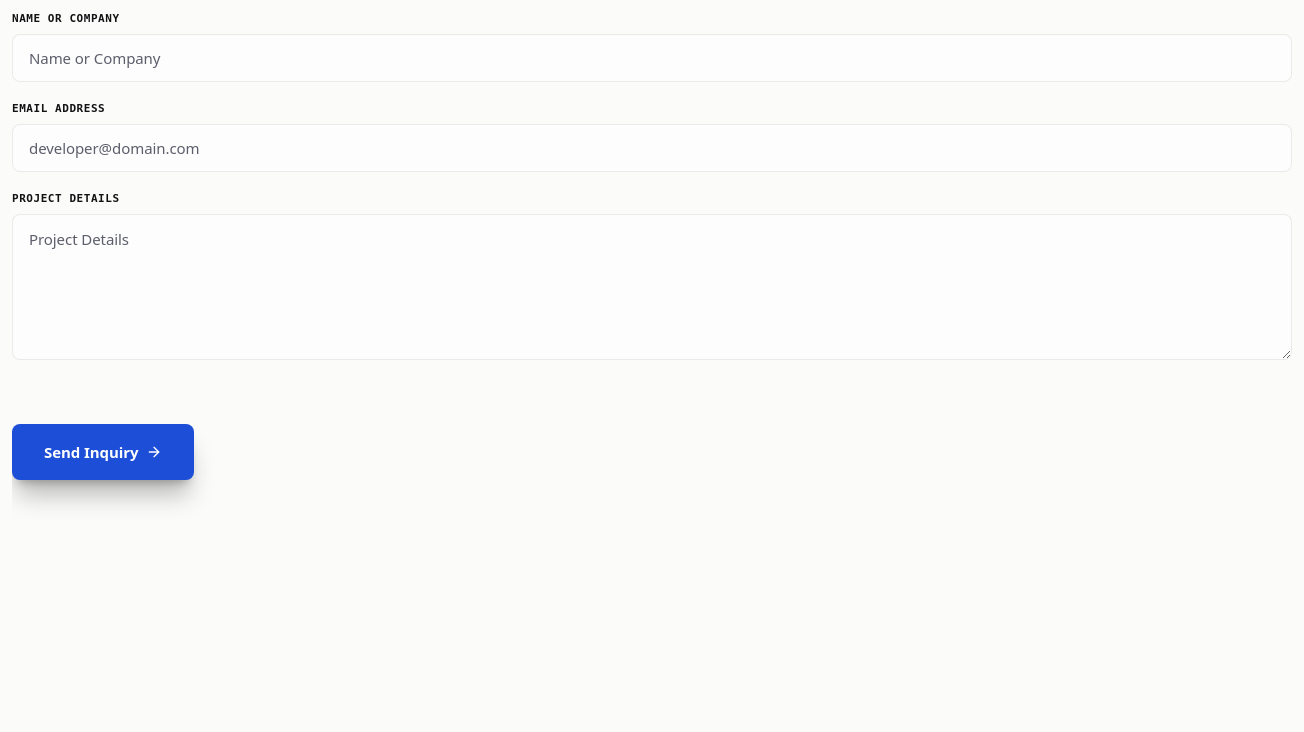
ContactForm › displays error message notification when submission fails
Step 1. Type "Bob Miller" into the field labelled "Name or Company" → (652, 58), box [12,34,1292,82]
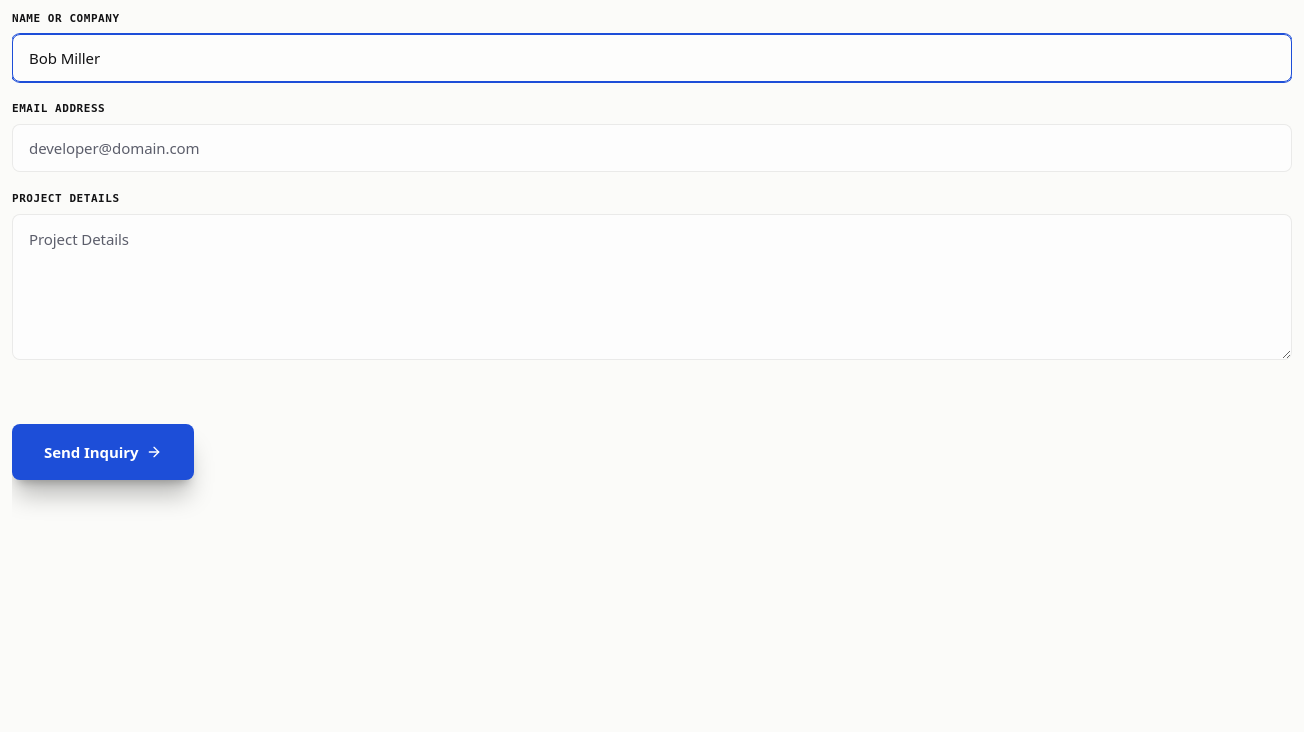
Step 2. Type "bob@example.com" into the field labelled "Email Address" → (652, 148), box [12,124,1292,172]
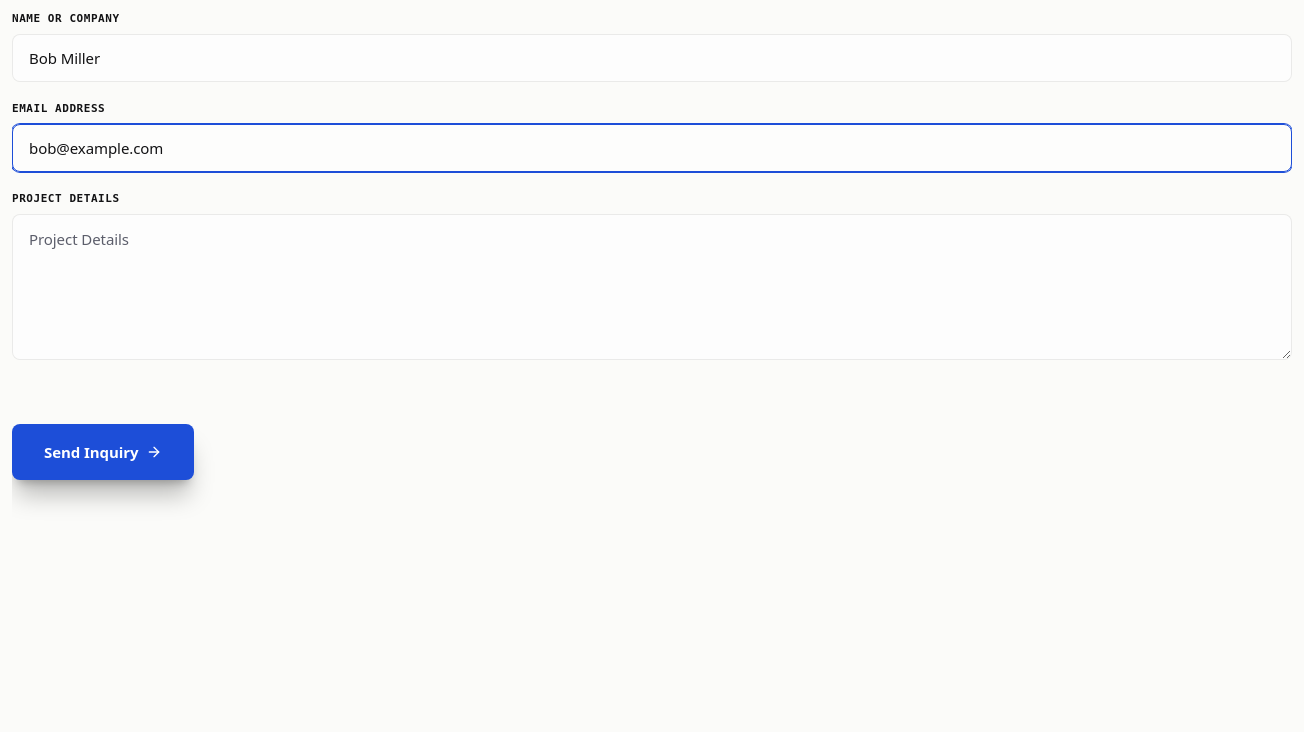
Step 3. Type "A request for quotation regarding cloud architecture on Microsoft Azure." into the text box labelled "Project Details" → (652, 287), box [12,214,1292,360]
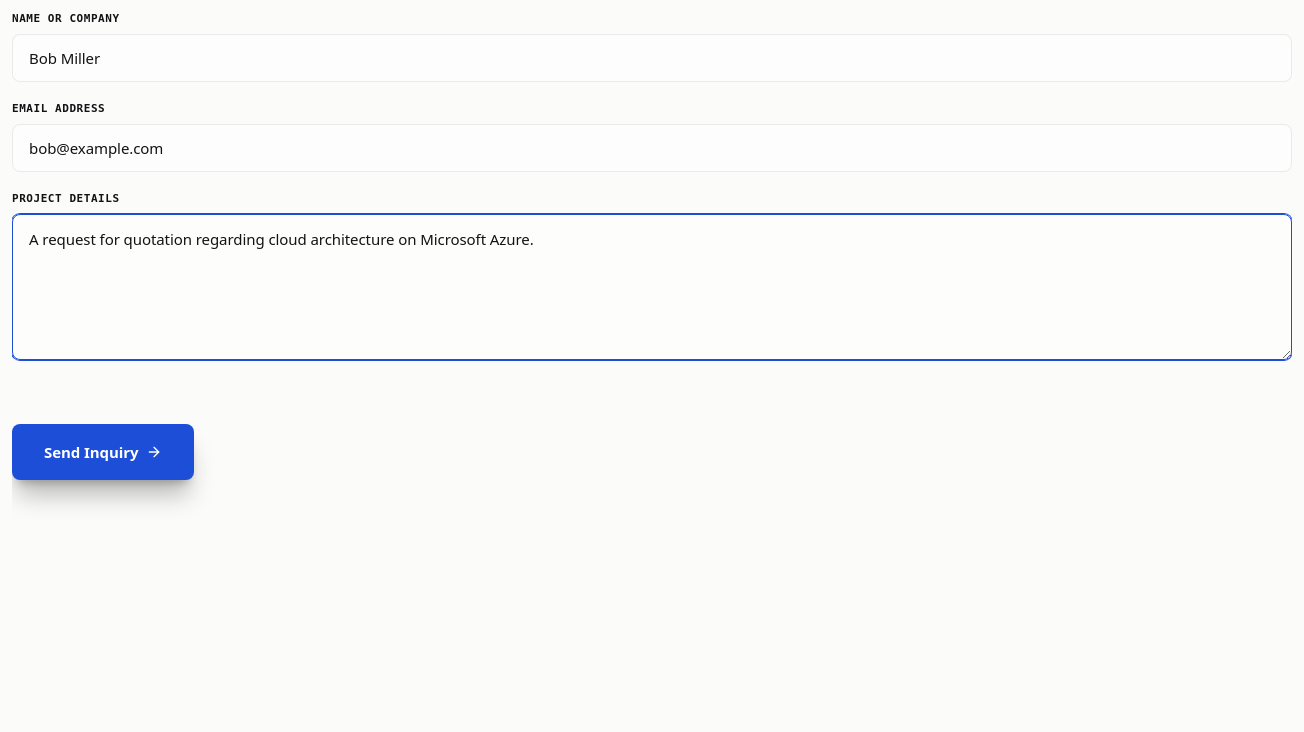
Step 4. Click the button "Send Inquiry" → (103, 452), box [12,424,194,480]
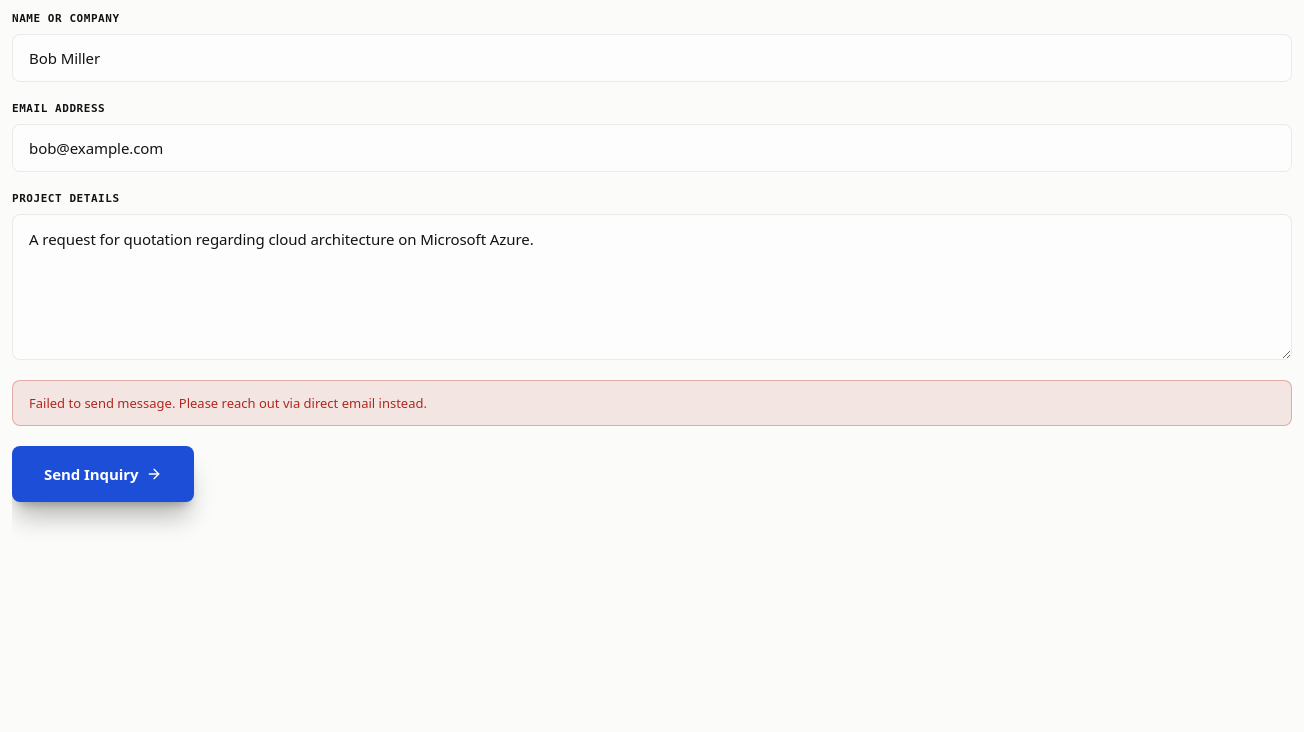
expect the text "Failed to send message. Please reach out via direct email instead." is shown: met, box [12,380,1292,426]
